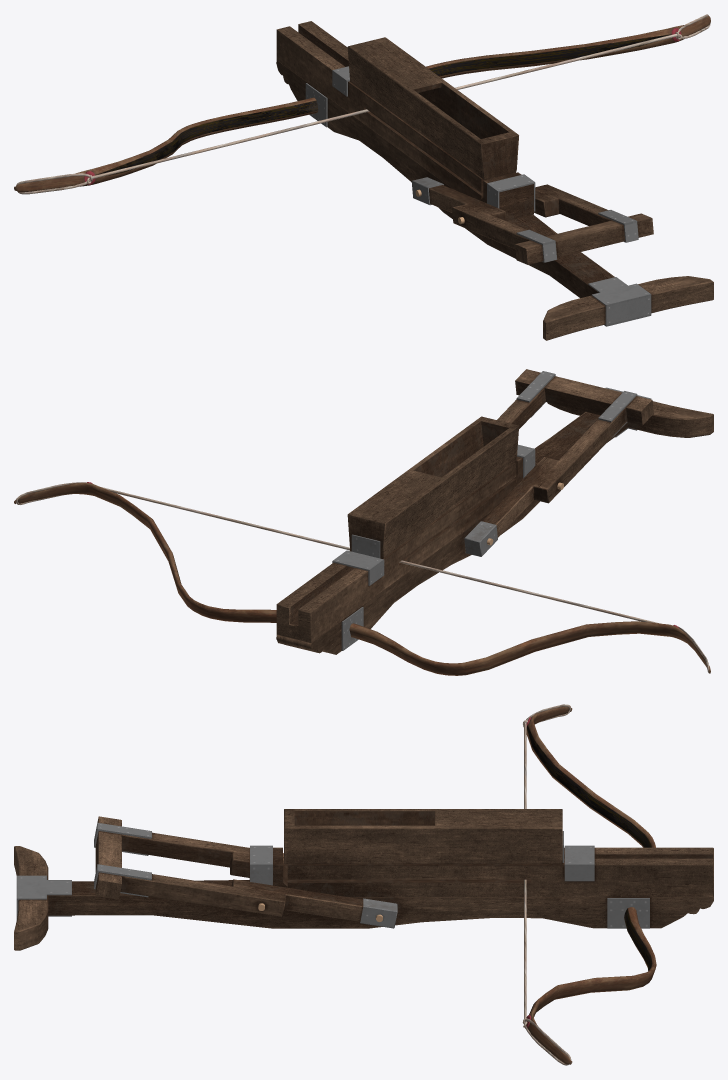
File: SM_Crossbow01b.fbx
3 renders of one model, top to bottom at view 1: azimuth 30°, elevation 25°; view 2: azimuth 150°, elevation 25°; view 3: azimuth 270°, elevation 25°, orthographic. The views are drawn at different scales.
Visible parts, largest first — view 1: SM_Crossbow01b; view 2: SM_Crossbow01b; view 3: SM_Crossbow01b.
Boxes of the visible parts, x1,y1,x2,y2 form: SM_Crossbow01b: (14, 14, 713, 340); SM_Crossbow01b: (14, 369, 713, 675); SM_Crossbow01b: (14, 704, 713, 1065).
Bounding box in the file's own units: 120 × 100 × 16.09.
Materials: 1 (1 with a texture image).
